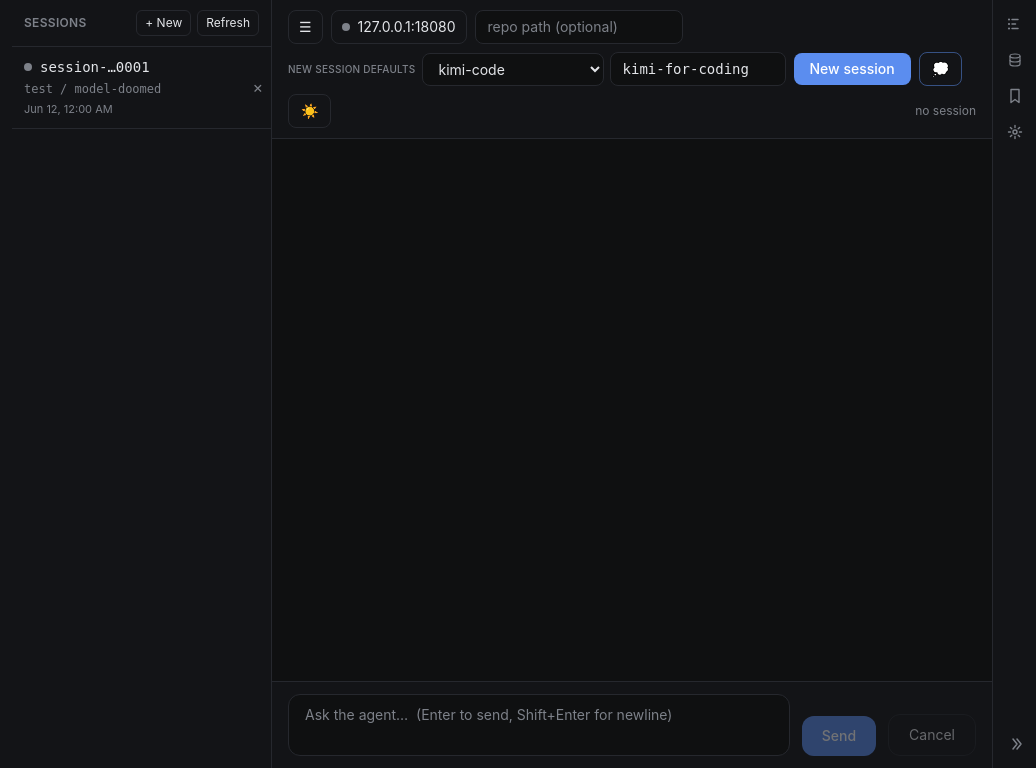
App session switching › deletes a session after confirmation and removes it from the list
Expected: the button "session-…0001 test / model-doomed Jun 12, 12:00 AM" is shown, 12,47 -> 244,128
Click the button named "close session" at (258, 87), box 244,47 -> 271,128
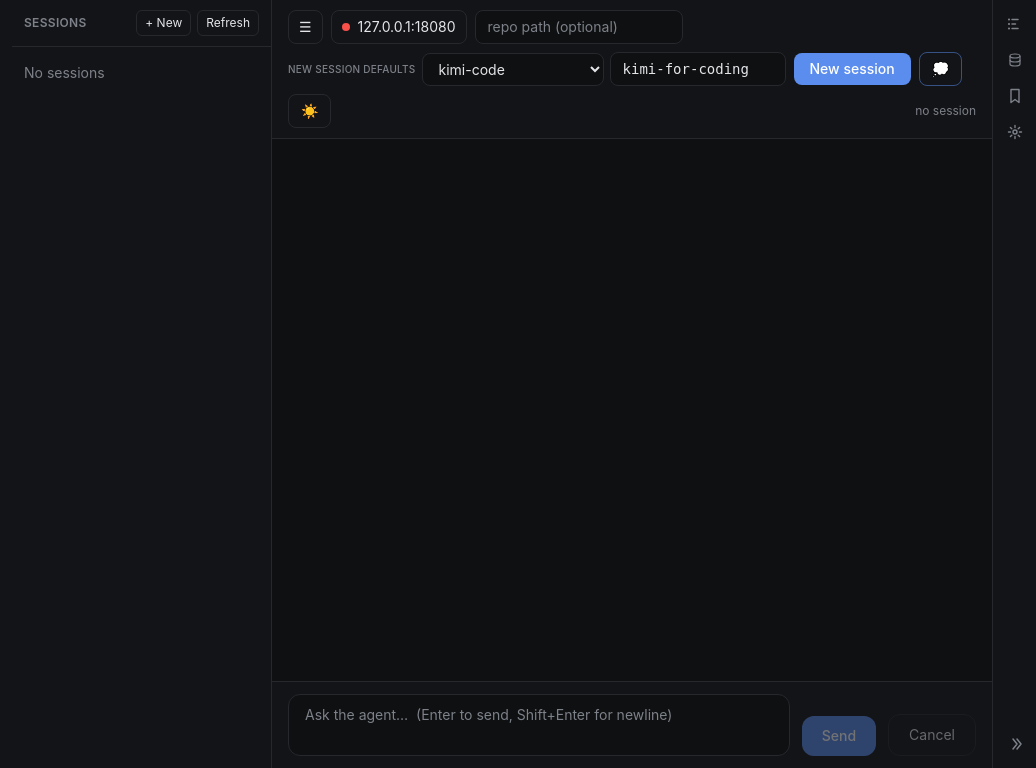
Expected: the button "model-doomed" is gone
